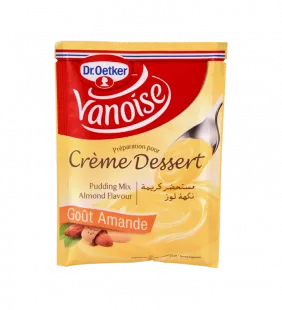Promotion: (44, 35, 236, 277)
